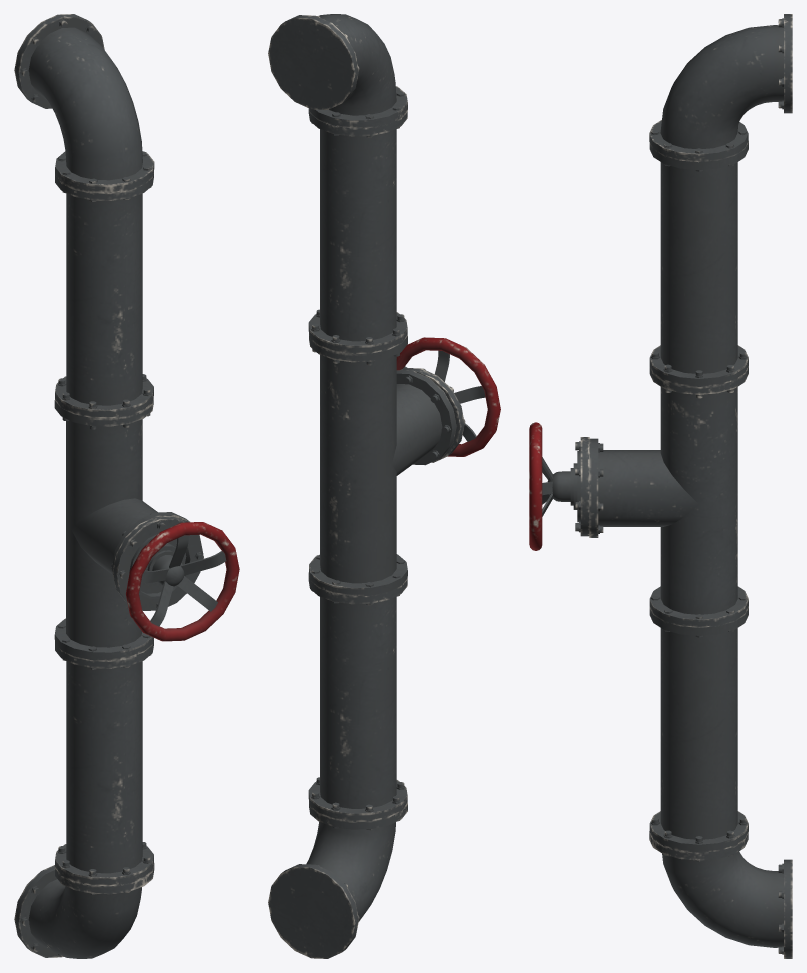
The model's file is Pipe_Combinations_01.fbx.
The picture shows the model from 3 angles, left to right: view 1: azimuth 30°, elevation 25°; view 2: azimuth 150°, elevation 25°; view 3: azimuth 270°, elevation 25°; orthographic projection.
Parts seen in each view (by area): view 1: LP_Corner_Pipe.035; view 2: LP_Corner_Pipe.035; view 3: LP_Corner_Pipe.035.
Boxes of the visible parts, left/top/right/bottom form: LP_Corner_Pipe.035: left=14, top=14, right=239, bottom=958; LP_Corner_Pipe.035: left=268, top=14, right=500, bottom=958; LP_Corner_Pipe.035: left=529, top=14, right=792, bottom=958.
Bounding box in the file's own units: 34.32 × 275 × 70.1.
